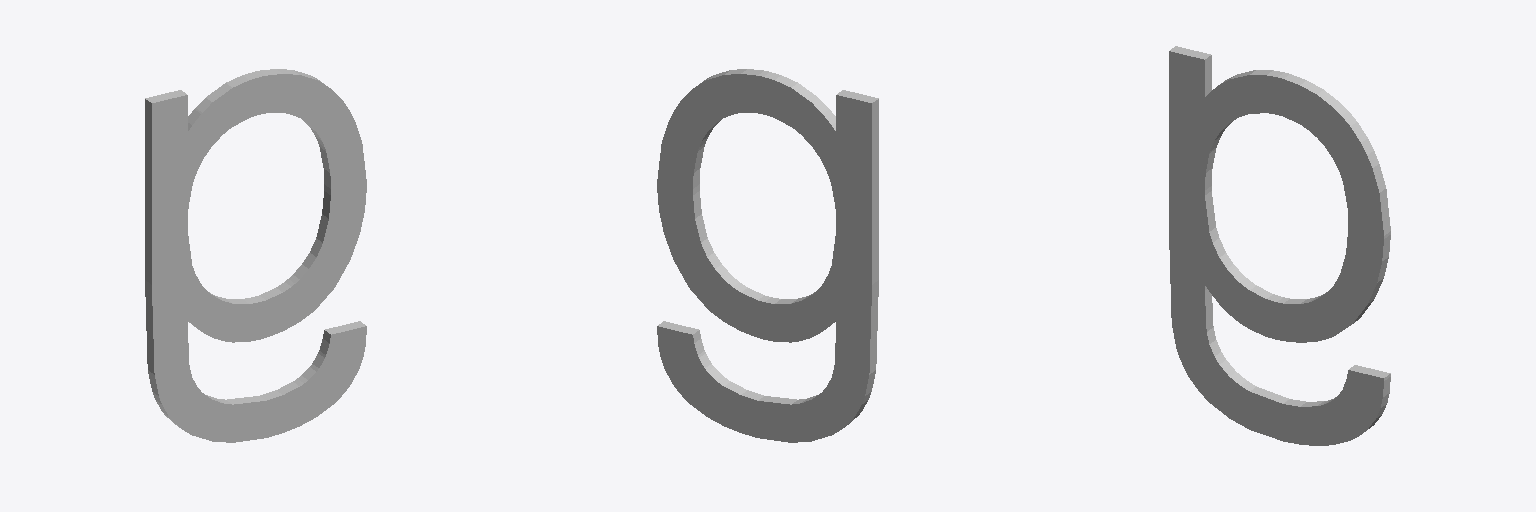
The model's file is g_lower.obj.
The picture shows the model from 3 angles: view 1: azimuth 30°, elevation 25°; view 2: azimuth 150°, elevation 25°; view 3: azimuth 330°, elevation 25°; orthographic projection.
Visible parts, largest first — view 1: default; view 2: default; view 3: default.
Part boxes in pixels (x1,y1,x2,y2): default: (145,69,366,442); default: (657,69,878,442); default: (1169,46,1390,445).
Bounding box in the file's own units: 1.8 × 2.9 × 0.1.